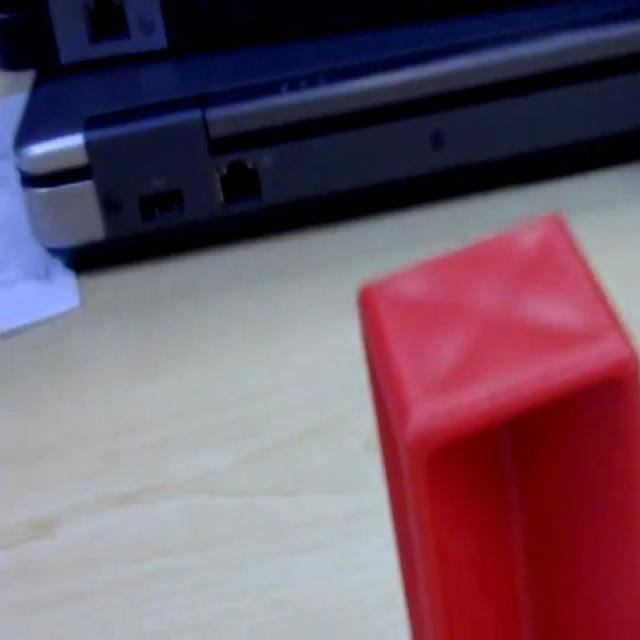red_block: (356, 208, 638, 636)
